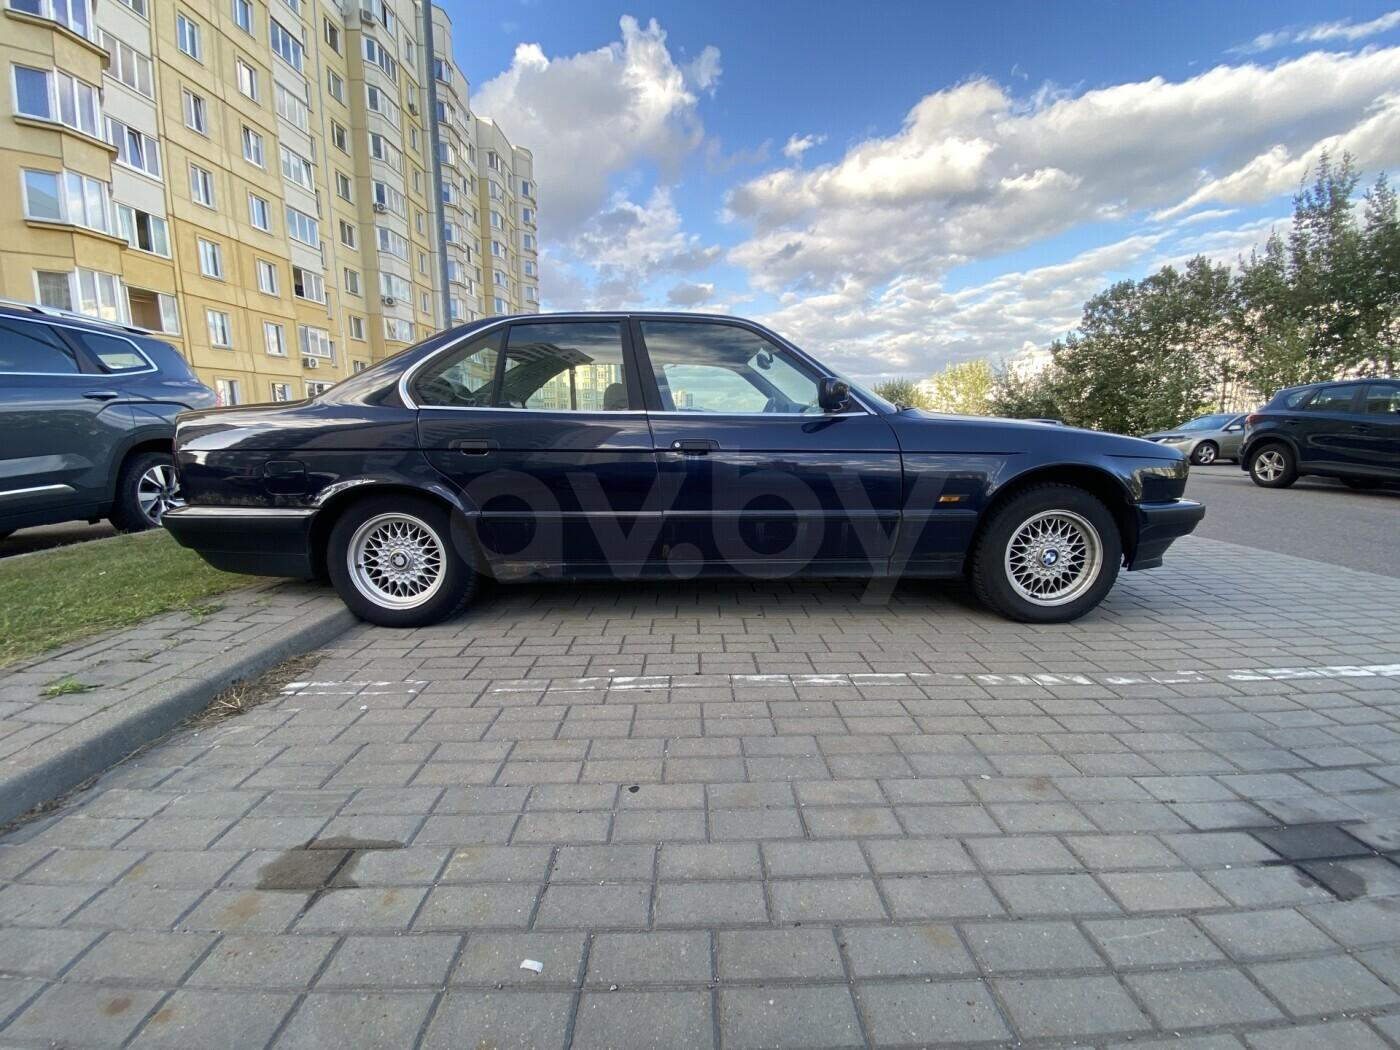BMW_E34_1994_4200: (151, 307, 1216, 635)
